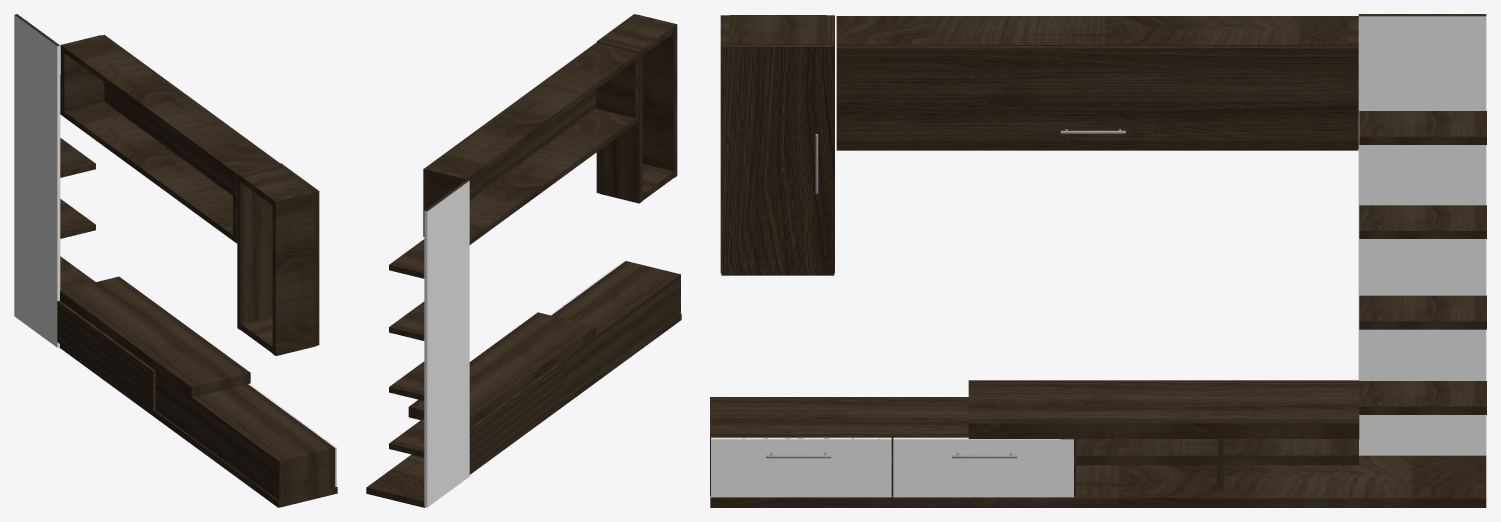
The model's file is closet.FBX.
3 renders of one model, left to right at view 1: azimuth 30°, elevation 25°; view 2: azimuth 150°, elevation 25°; view 3: azimuth 270°, elevation 25°, orthographic. The views are drawn at different scales.
Parts seen in each view (by area): view 1: Box177; view 2: Box177; view 3: Box177.
Part boxes in pixels (box(x1,y1,x2,y2)): Box177: box(14, 14, 337, 507); Box177: box(366, 14, 681, 507); Box177: box(710, 14, 1486, 507).
Bounding box in the file's own units: 16.63 × 113 × 72.43.
